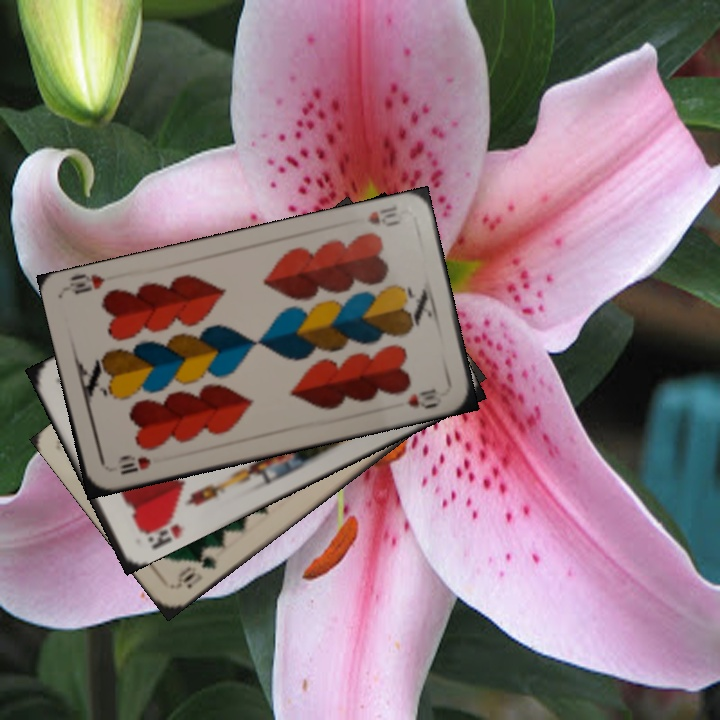G10: (173, 551, 219, 591)
H10: (363, 201, 402, 230), (116, 452, 154, 477)
HK: (136, 512, 186, 552)
